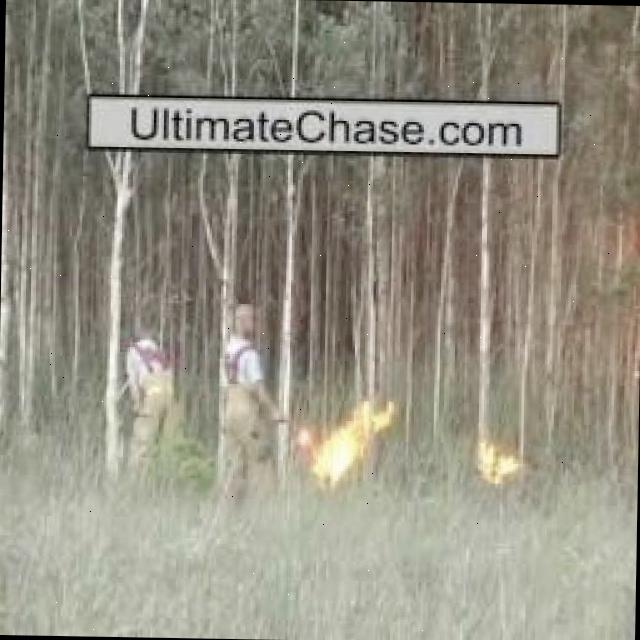fire: (299, 399, 386, 484), (471, 446, 525, 494)
